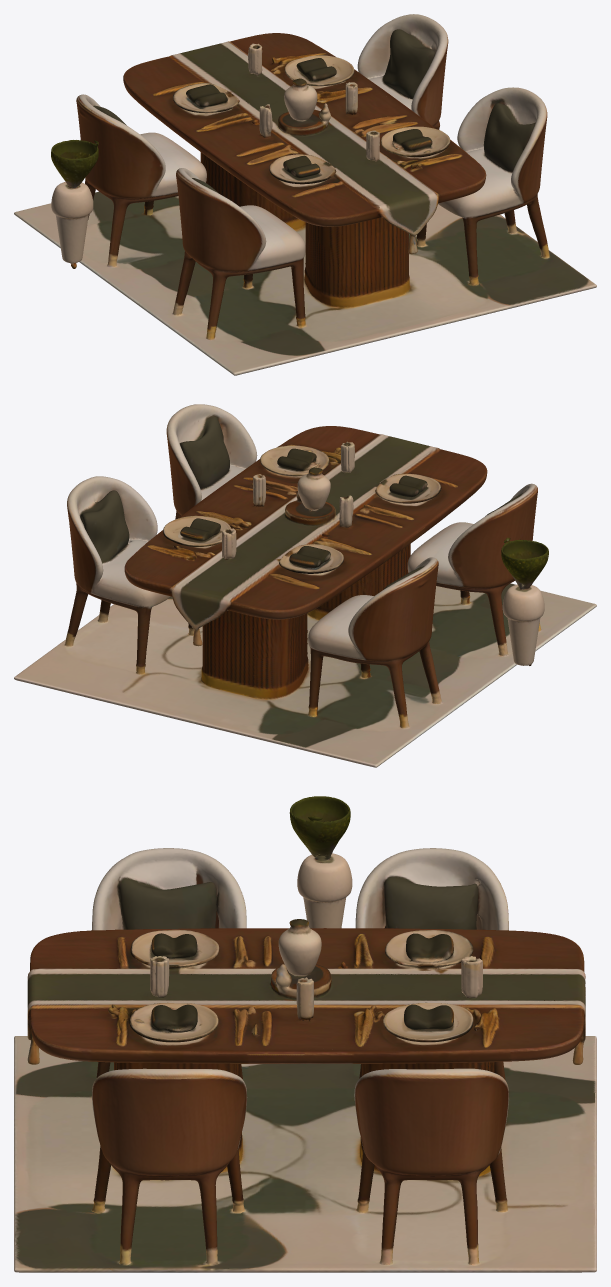
File: dining-table.glb
The picture shows the model from 3 angles, top to bottom: view 1: azimuth 30°, elevation 25°; view 2: azimuth 150°, elevation 25°; view 3: azimuth 270°, elevation 25°; orthographic projection. The views are drawn at different scales.
Parts seen in each view (by area): view 1: tripo_node_93da04bd-00d7-4215-87fc-e0d564c51c6a; view 2: tripo_node_93da04bd-00d7-4215-87fc-e0d564c51c6a; view 3: tripo_node_93da04bd-00d7-4215-87fc-e0d564c51c6a.
Boxes of the visible parts, left/top/right/bottom form: tripo_node_93da04bd-00d7-4215-87fc-e0d564c51c6a: left=14, top=14, right=596, bottom=375; tripo_node_93da04bd-00d7-4215-87fc-e0d564c51c6a: left=14, top=404, right=596, bottom=767; tripo_node_93da04bd-00d7-4215-87fc-e0d564c51c6a: left=14, top=796, right=596, bottom=1272.
Size of the model in its own units: 1 by 0.394 by 0.8949.
Materials: 1 (1 with a texture image).
